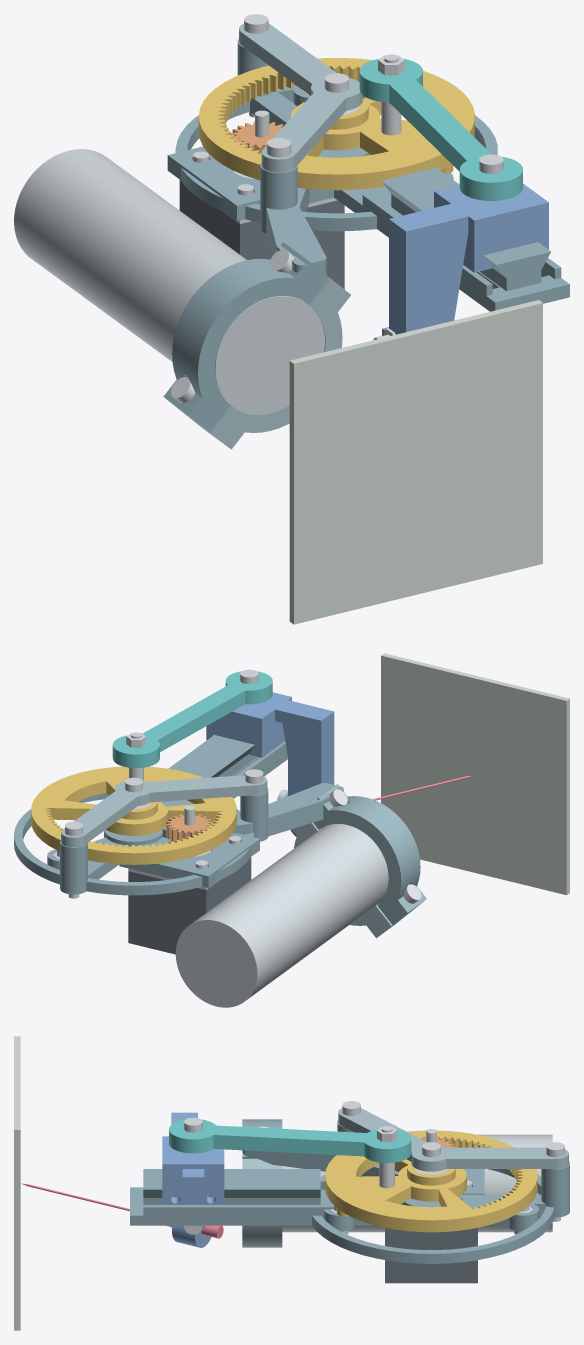
File: probe_stage_v4_assembly.glb
3 renders of one model, top to bottom at view 1: azimuth 30°, elevation 25°; view 2: azimuth 150°, elevation 25°; view 3: azimuth 270°, elevation 25°, orthographic. The views are drawn at different scales.
Parts seen in each view (by area): view 1: =>[0:1:1:50], =>[0:1:1:48], =>[0:1:1:3], =>[0:1:1:6], =>[0:1:1:9], =>[0:1:1:8], =>[0:1:1:5], =>[0:1:1:27], =>[0:1:1:4], =>[0:1:1:7]; view 2: =>[0:1:1:50], =>[0:1:1:48], =>[0:1:1:3], =>[0:1:1:6], =>[0:1:1:9], =>[0:1:1:27], =>[0:1:1:8], =>[0:1:1:5], =>[0:1:1:4], =>[0:1:1:7]; view 3: =>[0:1:1:3], =>[0:1:1:6], =>[0:1:1:8], =>[0:1:1:9], =>[0:1:1:5], =>[0:1:1:27], =>[0:1:1:48], =>[0:1:1:50], =>[0:1:1:4], =>[0:1:1:49], =>[0:1:1:17].
Part boxes in pixels (<box>): =>[0:1:1:50]: <box>289,300,542,624</box>; =>[0:1:1:48]: <box>14,149,324,414</box>; =>[0:1:1:3]: <box>163,39,569,431</box>; =>[0:1:1:6]: <box>198,58,474,190</box>; =>[0:1:1:9]: <box>382,183,548,335</box>; =>[0:1:1:8]: <box>359,58,522,200</box>; =>[0:1:1:5]: <box>239,23,362,172</box>; =>[0:1:1:27]: <box>179,180,344,289</box>; =>[0:1:1:4]: <box>185,278,350,449</box>; =>[0:1:1:7]: <box>230,121,283,153</box>; =>[0:1:1:50]: <box>381,653,569,895</box>; =>[0:1:1:48]: <box>175,824,388,1007</box>; =>[0:1:1:3]: <box>14,735,426,924</box>; =>[0:1:1:6]: <box>31,766,236,864</box>; =>[0:1:1:9]: <box>206,692,334,836</box>; =>[0:1:1:27]: <box>128,857,251,954</box>; =>[0:1:1:8]: <box>112,671,272,768</box>; =>[0:1:1:5]: <box>61,775,267,847</box>; =>[0:1:1:4]: <box>292,822,408,938</box>; =>[0:1:1:7]: <box>166,814,213,842</box>; =>[0:1:1:3]: <box>130,1119,569,1263</box>; =>[0:1:1:6]: <box>325,1130,537,1232</box>; =>[0:1:1:8]: <box>169,1119,411,1162</box>; =>[0:1:1:9]: <box>162,1112,224,1247</box>; =>[0:1:1:5]: <box>338,1108,568,1171</box>; =>[0:1:1:27]: <box>385,1228,477,1283</box>; =>[0:1:1:48]: <box>282,1134,552,1232</box>; =>[0:1:1:50]: <box>14,1036,20,1330</box>; =>[0:1:1:4]: <box>242,1158,282,1247</box>; =>[0:1:1:49]: <box>21,1183,223,1238</box>; =>[0:1:1:17]: <box>379,1162,394,1188</box>.
Size of the model in its own units: 0.182 by 0.1177 by 0.2508.
